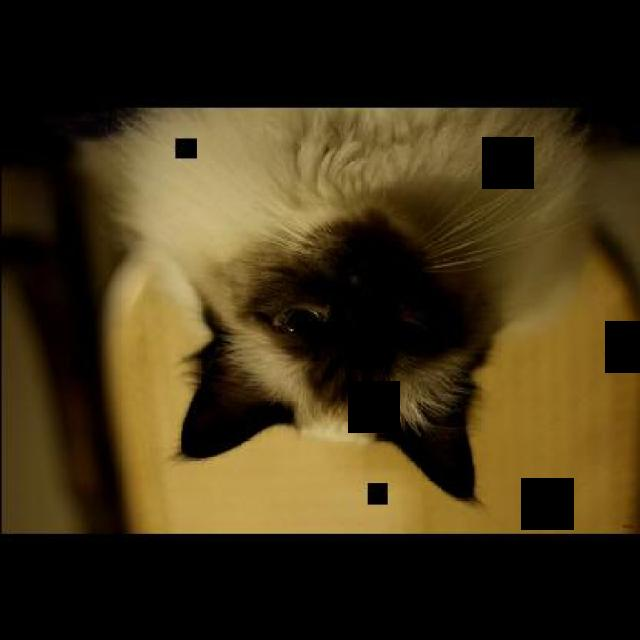unauthorized: (72, 105, 598, 506)
